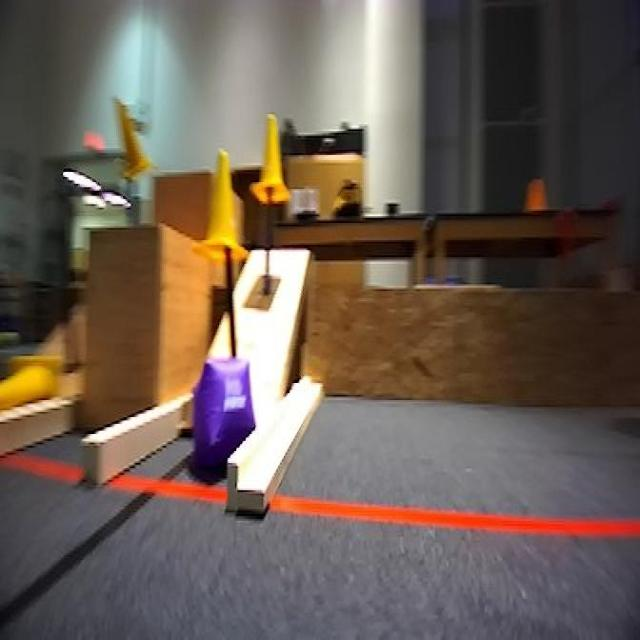frc_cone: (195, 150, 248, 260), (250, 114, 290, 204), (0, 354, 62, 410), (116, 99, 152, 180)
frc_cube: (190, 356, 256, 466)
